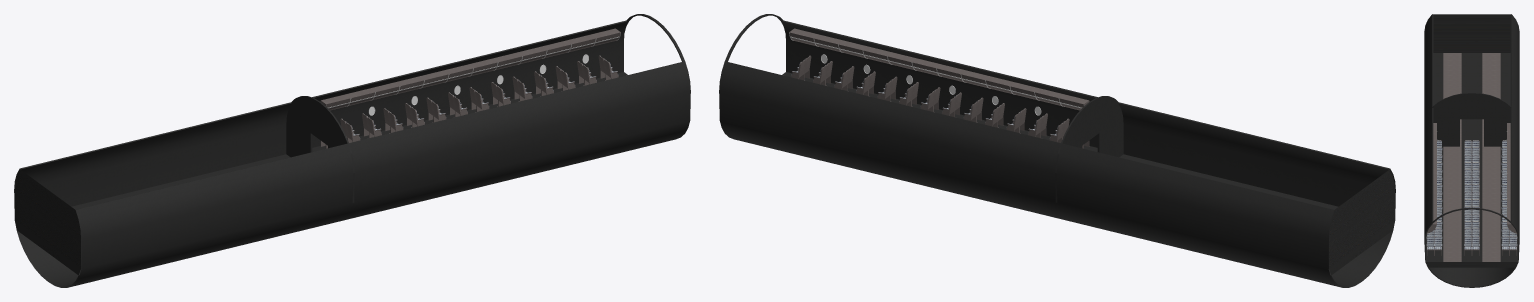
File: passenger_cabin_model (1).glb
The picture shows the model from 3 angles, left to right: view 1: azimuth 30°, elevation 25°; view 2: azimuth 150°, elevation 25°; view 3: azimuth 270°, elevation 25°; orthographic projection. The views are drawn at different scales.
Parts seen in each view (by area): view 1: Zylinder.008; view 2: Zylinder.008; view 3: Zylinder.008.
Part boxes in pixels (left/top/right/bottom): Zylinder.008: left=14, top=14, right=690, bottom=287; Zylinder.008: left=719, top=14, right=1395, bottom=287; Zylinder.008: left=1424, top=14, right=1519, bottom=287.
Size of the model in its own units: 42.45 by 7.54 by 8.19.
5 materials, 3 textured.
